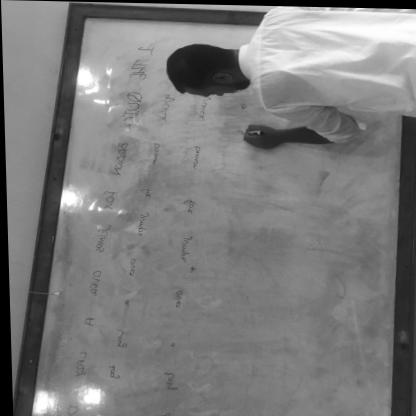Handwritten text: (57, 53, 150, 383), (92, 85, 182, 386), (149, 89, 211, 399)
Lecturer: (168, 15, 408, 140)
Whiteboard: (23, 0, 411, 416)
